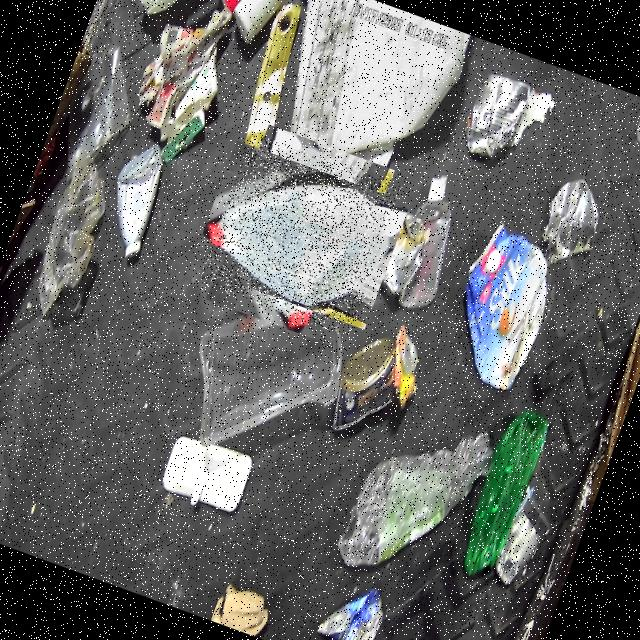milk-jug: (197, 132, 402, 336)
